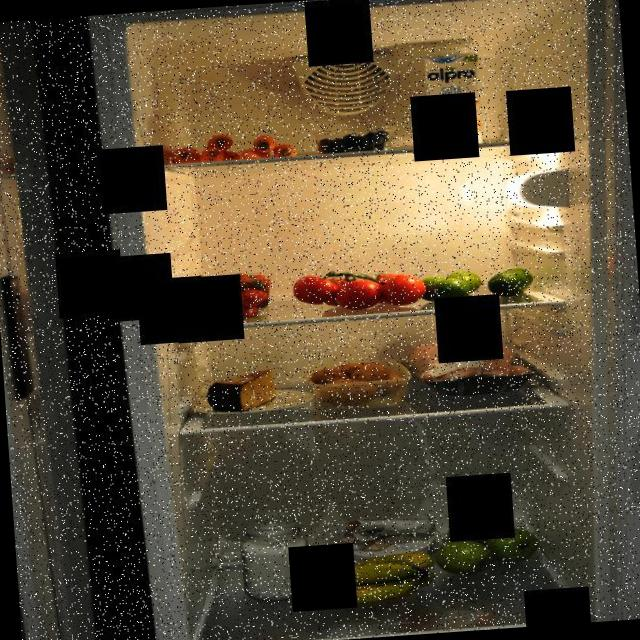Carne pollo: (401, 334, 538, 398)
Leche: (420, 46, 485, 150)
Manzana: (428, 503, 542, 578)
Patata: (304, 352, 409, 413)
Plátano: (296, 549, 438, 612)
Queso: (205, 367, 282, 414)
Tomate: (291, 262, 430, 316)
Zanahoria: (168, 126, 306, 166)
